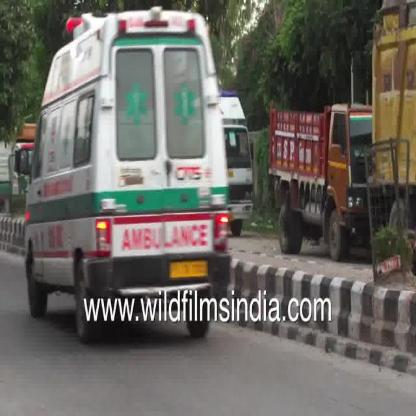priority: (14, 12, 247, 343), (111, 206, 233, 286)
